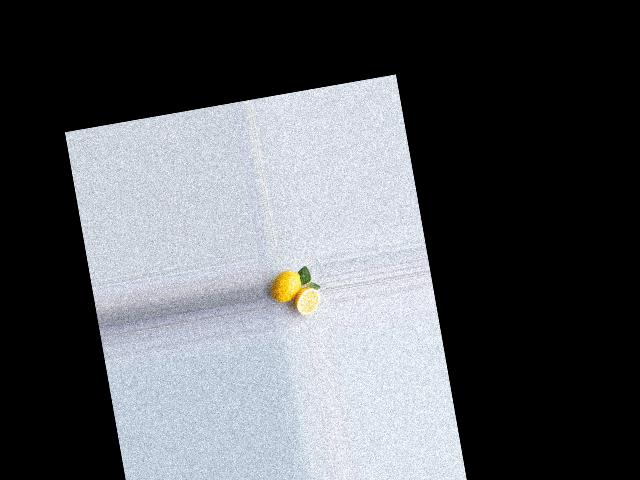lemon: (267, 265, 306, 304)
